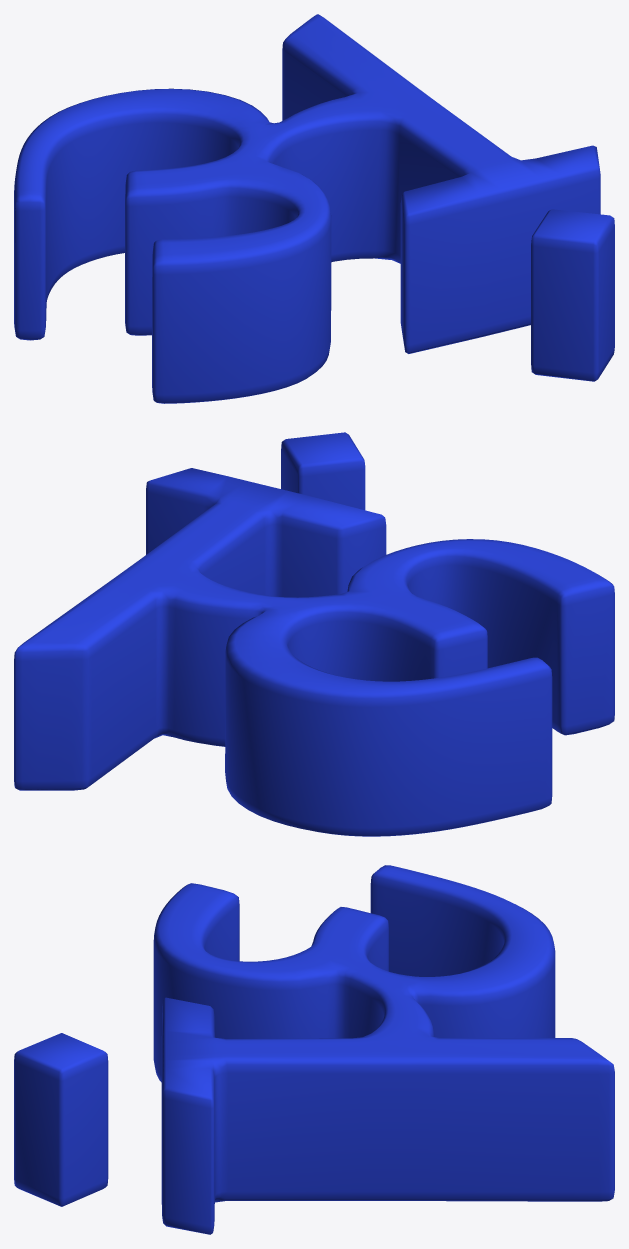
3 renders of one model, top to bottom at view 1: azimuth 30°, elevation 25°; view 2: azimuth 150°, elevation 25°; view 3: azimuth 270°, elevation 25°, orthographic. The views are drawn at different scales.
Visible parts, largest first — view 1: 3D_Alphabets_Hindi_Language_02.001; view 2: 3D_Alphabets_Hindi_Language_02.001; view 3: 3D_Alphabets_Hindi_Language_02.001.
Boxes of the visible parts, bbox=[...] form: 3D_Alphabets_Hindi_Language_02.001: bbox=[14, 14, 614, 403]; 3D_Alphabets_Hindi_Language_02.001: bbox=[14, 432, 614, 836]; 3D_Alphabets_Hindi_Language_02.001: bbox=[14, 865, 614, 1234].
Bounding box in the file's own units: 0.7536 × 0.2129 × 0.8114.
